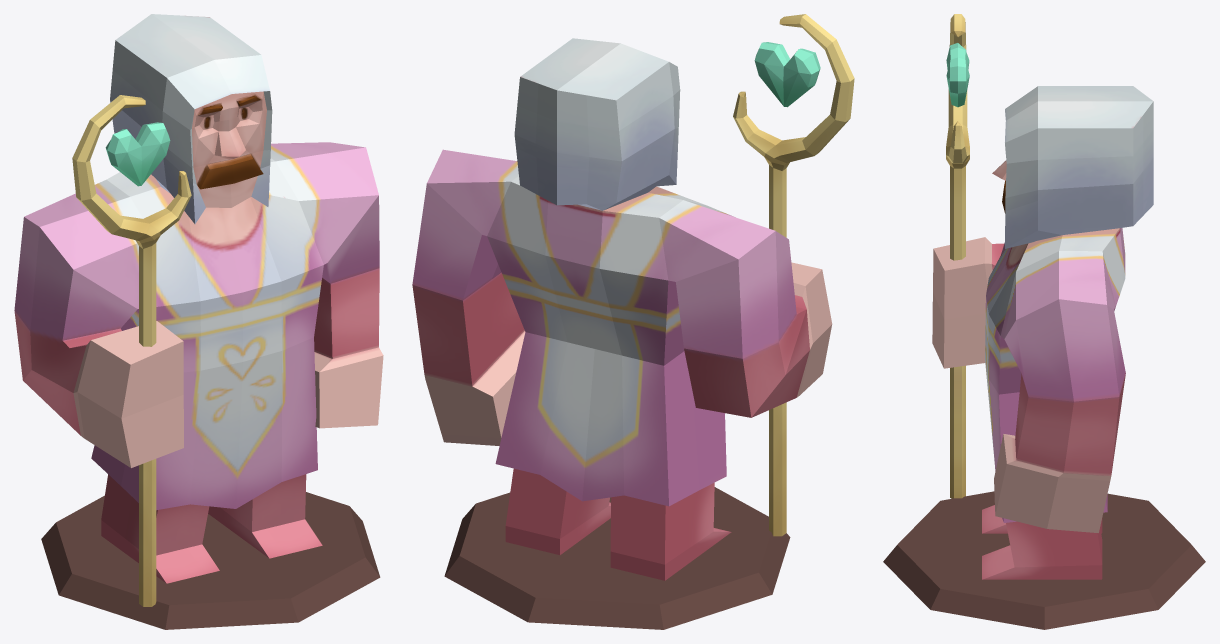
The model's file is Asset_Pawn_Swag.fbx.
3 views of the same model, side by side, from view 1: azimuth 30°, elevation 25°; view 2: azimuth 150°, elevation 25°; view 3: azimuth 270°, elevation 25° (orthographic). The views are drawn at different scales.
Parts seen in each view (by area): view 1: STP_body, Swag_Stand, staff, STP_heart; view 2: STP_body, Swag_Stand, staff, STP_heart; view 3: STP_body, Swag_Stand, staff, STP_heart.
Boxes of the visible parts, x1,y1,x2,y2 form: STP_body: (14, 14, 383, 583); Swag_Stand: (41, 492, 380, 629); staff: (72, 95, 191, 606); STP_heart: (105, 122, 170, 186); STP_body: (412, 38, 832, 580); Swag_Stand: (444, 487, 790, 629); staff: (733, 14, 854, 536); STP_heart: (754, 42, 820, 107); STP_body: (932, 86, 1153, 579); Swag_Stand: (883, 491, 1205, 629); staff: (946, 14, 969, 498); STP_heart: (946, 43, 969, 107).
Size of the model in its own units: 52.06 by 74.4 by 44.72.
